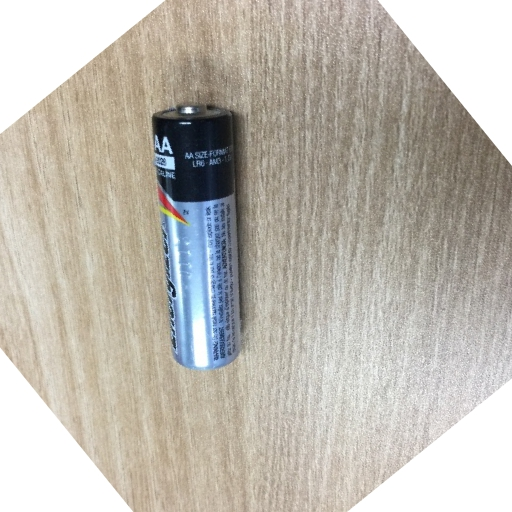Battery_0: (144, 102, 261, 374)
